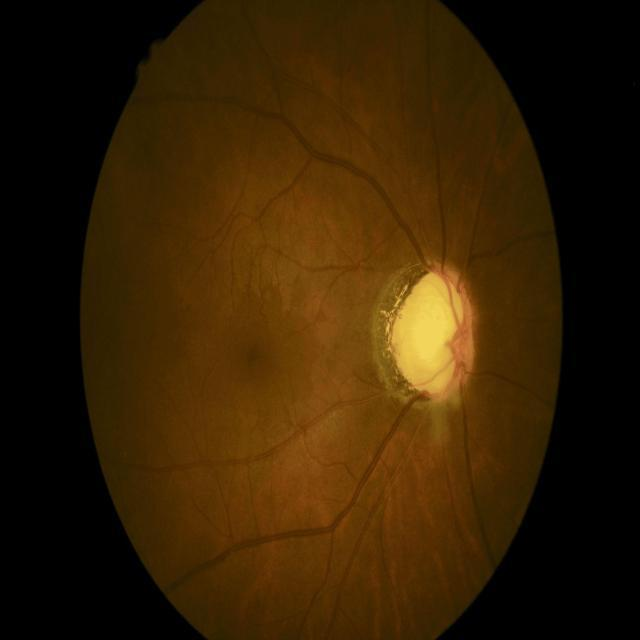cup: (393, 274, 465, 391)
disk: (387, 261, 476, 402)
